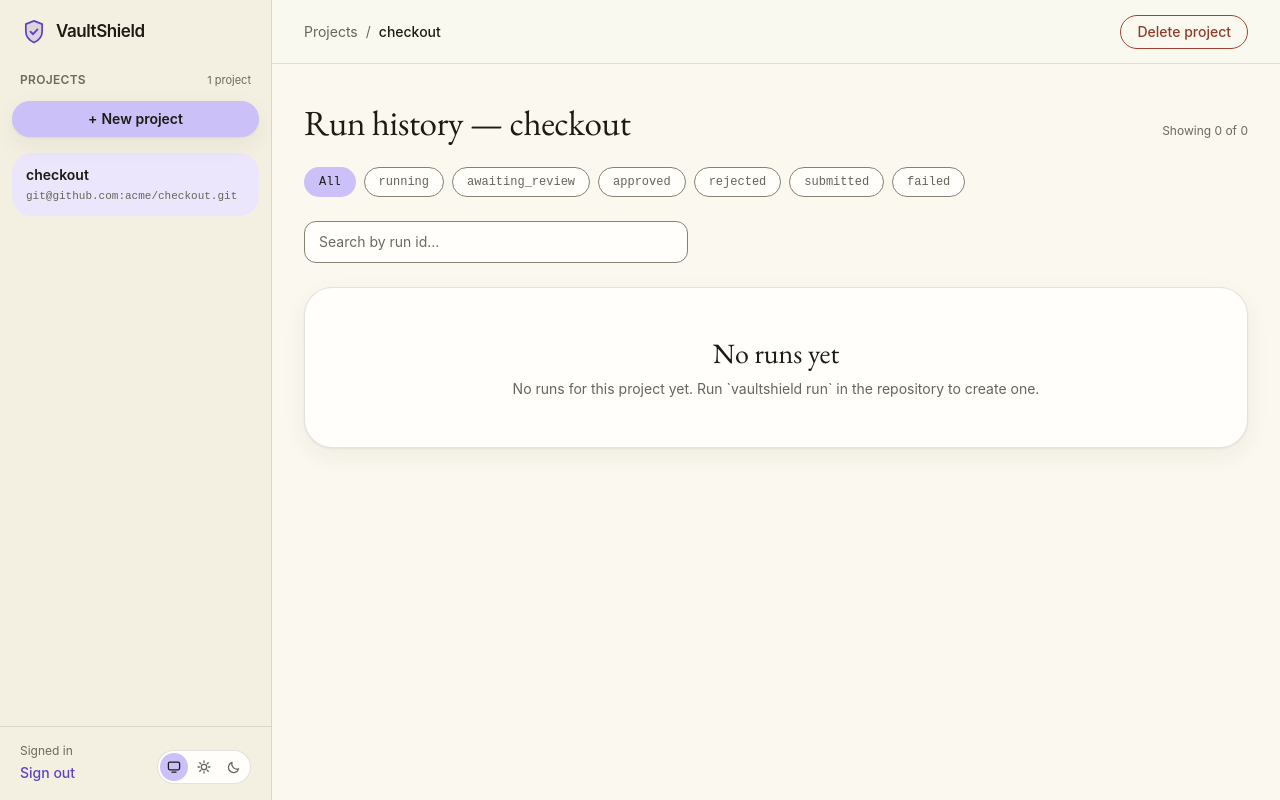
shows the Delete project control on a project route and confirms before deleting
The control appears once the project is resolved from the loaded list.
Click the button "Delete project" at (1184, 32), box left=1120, top=14, right=1248, bottom=48
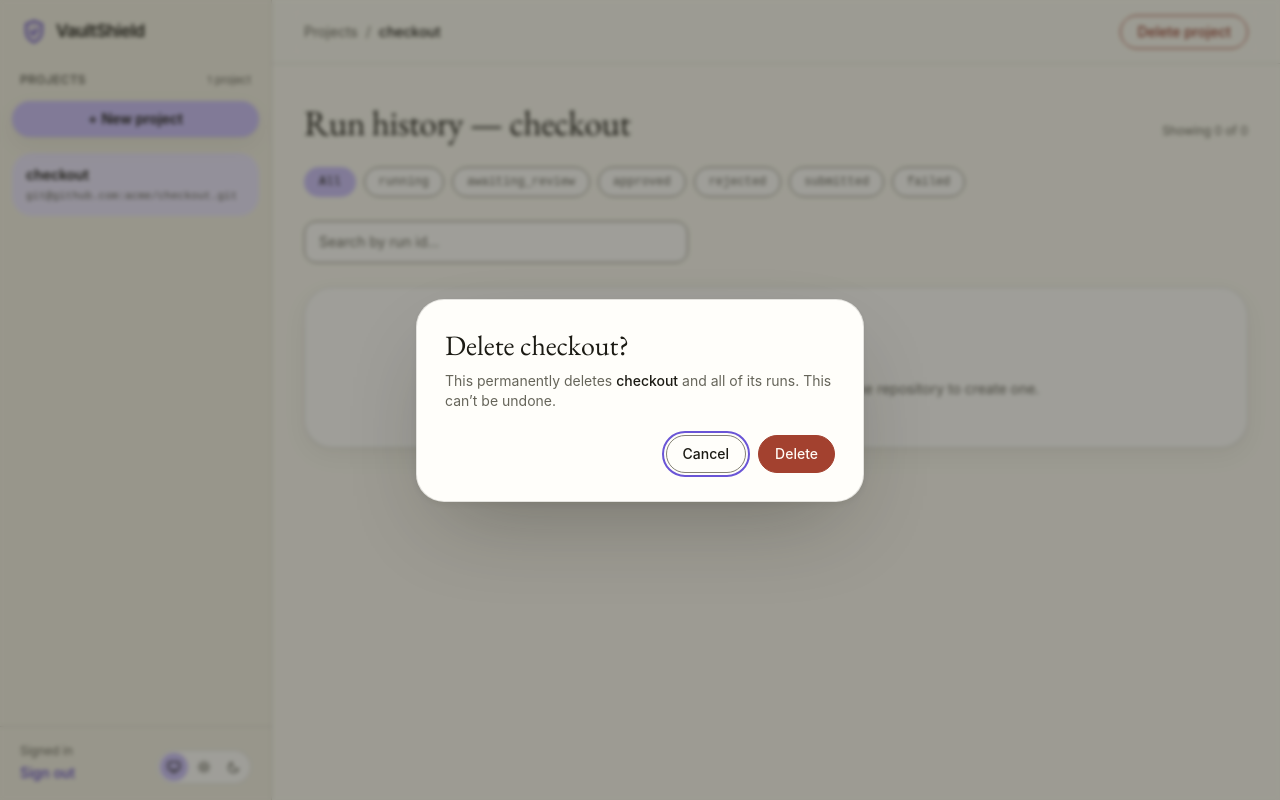
Now the dialog shows "checkout", box left=520, top=326, right=618, bottom=362
Now the dialog shows "runs", box left=445, top=372, right=831, bottom=408
